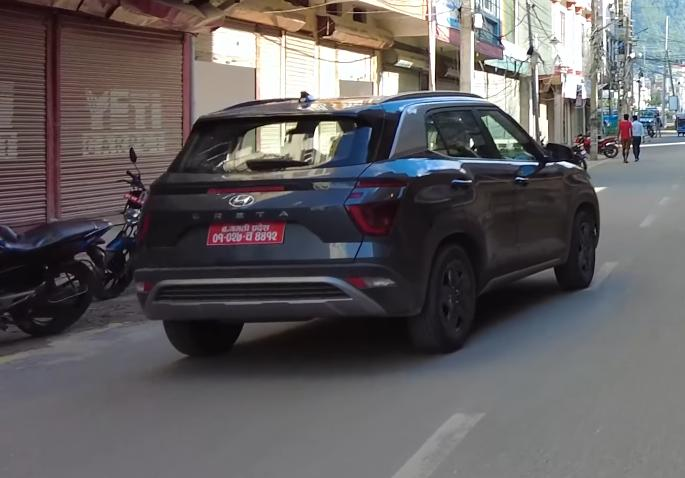bike: (0, 213, 113, 338), (102, 147, 155, 297)
car: (120, 88, 601, 351)
